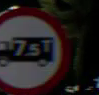Heavy Vehicles: (0, 0, 76, 94)
